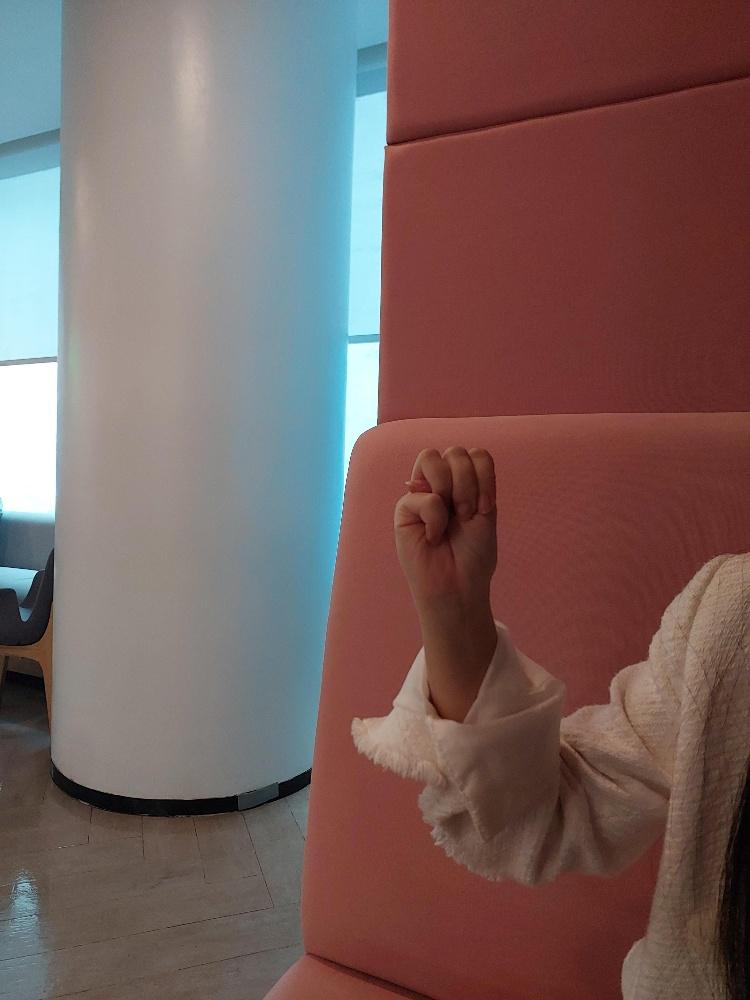m: (394, 441, 497, 575)
